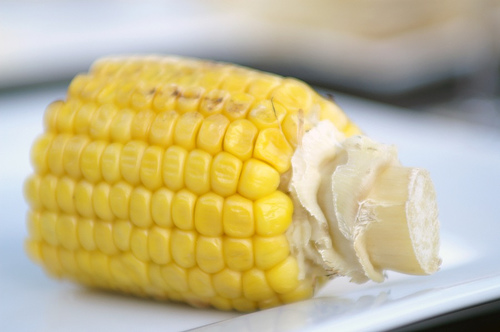corn: (23, 54, 443, 311)
